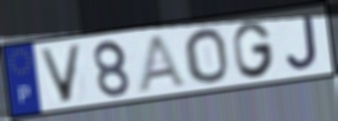8: (91, 38, 131, 99)
A: (135, 32, 190, 93)
G: (231, 19, 277, 80)
J: (284, 13, 321, 71)
O: (182, 26, 232, 85)
V: (36, 42, 85, 105)
